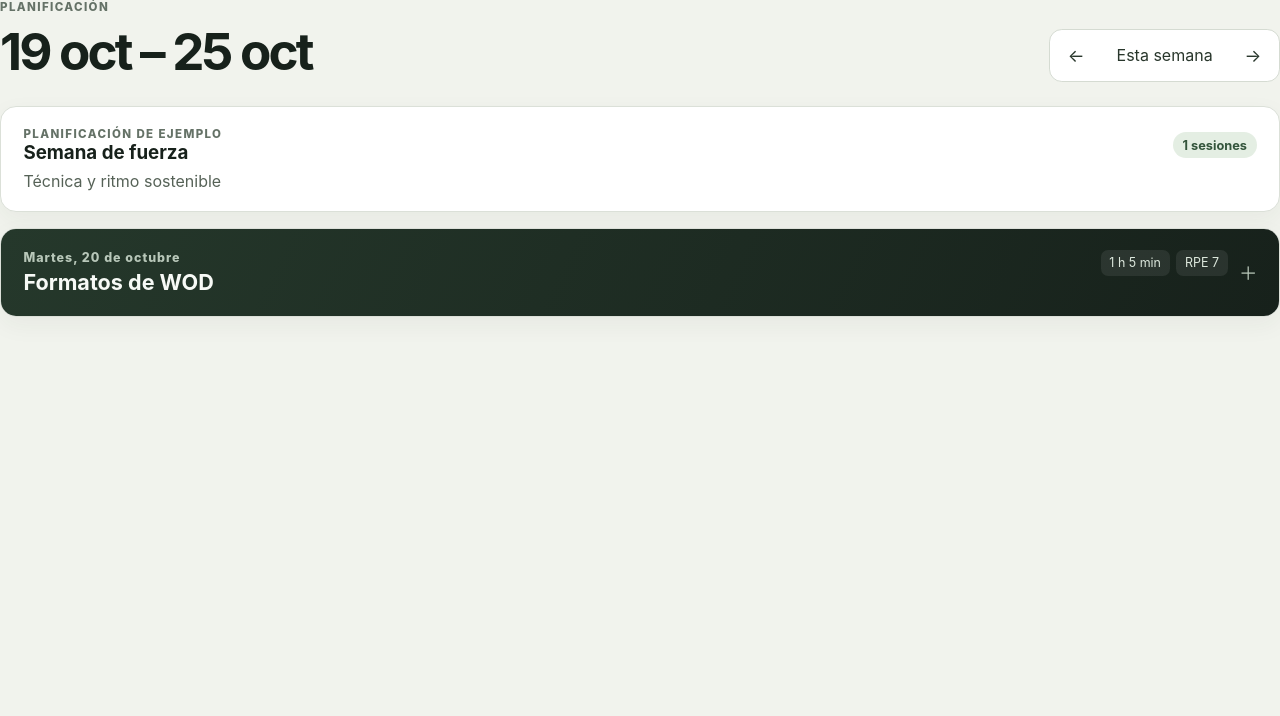
PlanningWeekScreen › renders E2MOM workout format details
Click the heading "Formatos de WOD" at (119, 282), box x1=23 y1=269 x2=214 y2=295
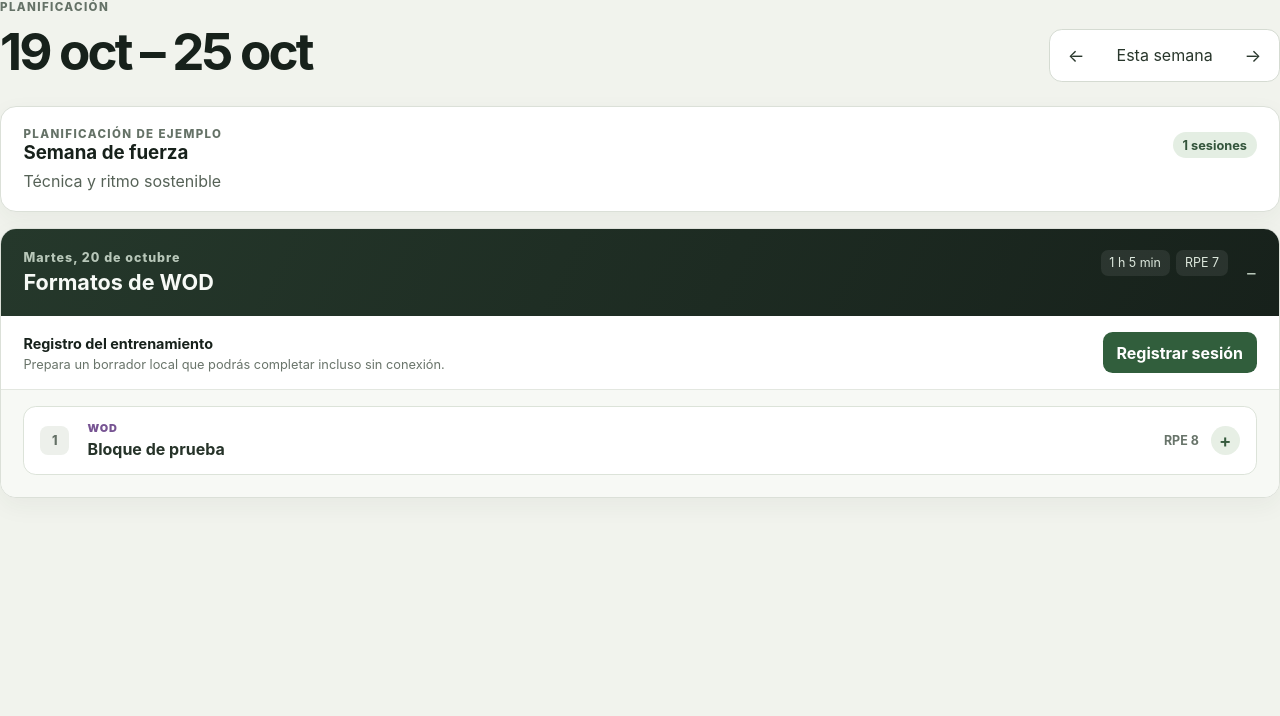
Click the button with aria-label "WOD: Bloque de prueba" at (103, 428), box x1=24 y1=407 x2=1256 y2=474
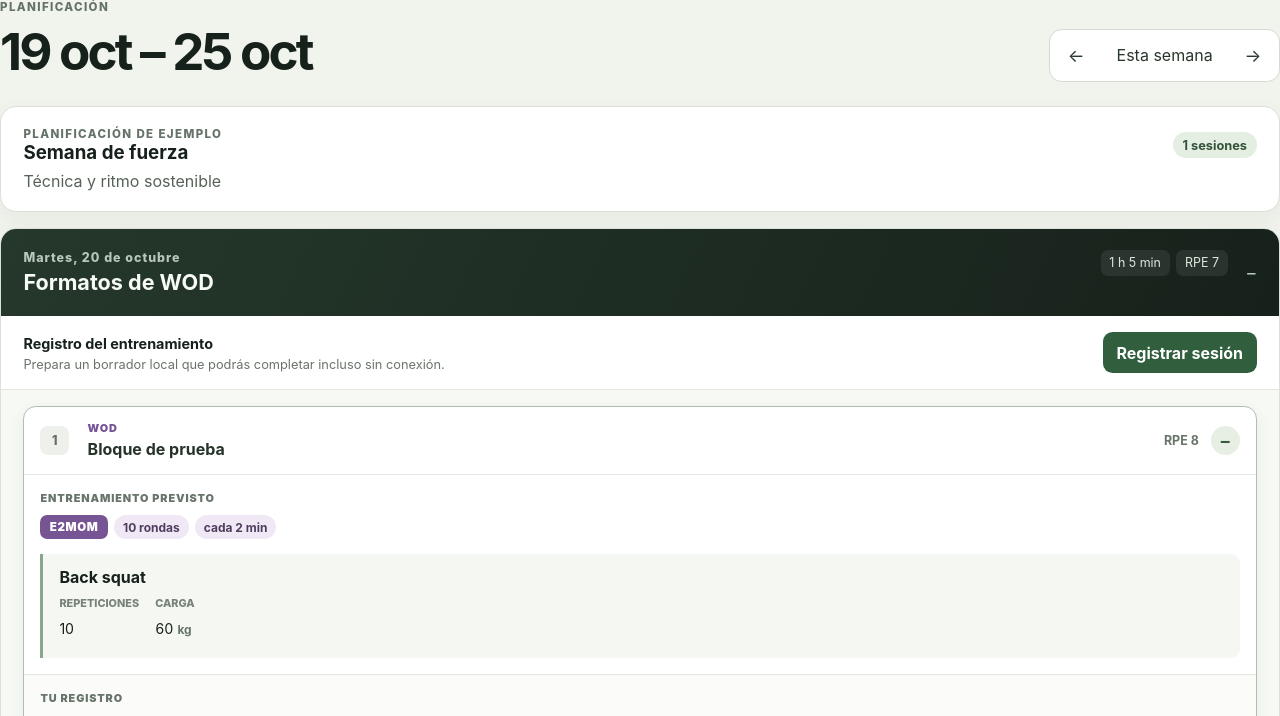
Expected: the text "E2MOM" is shown, x1=40 y1=515 x2=108 y2=539
Expected: the text "10 rondas" is shown, x1=114 y1=515 x2=189 y2=539
Expected: the text "cada 2 min" is shown, x1=195 y1=515 x2=276 y2=539
